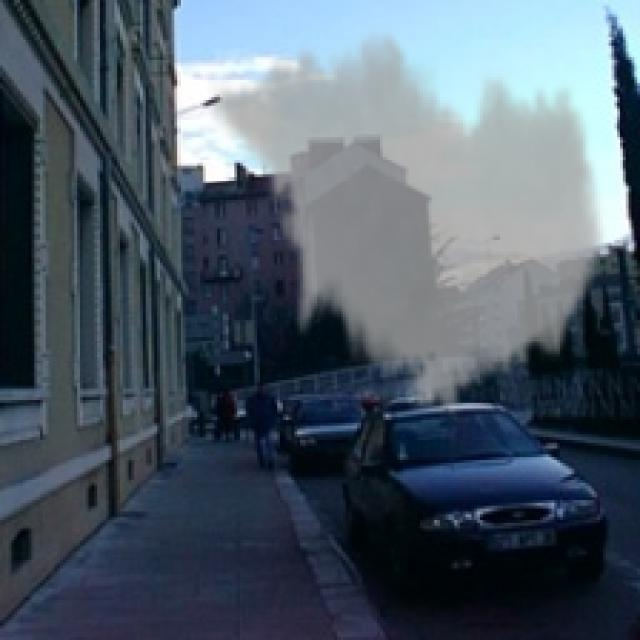smoke: (208, 20, 608, 423)
